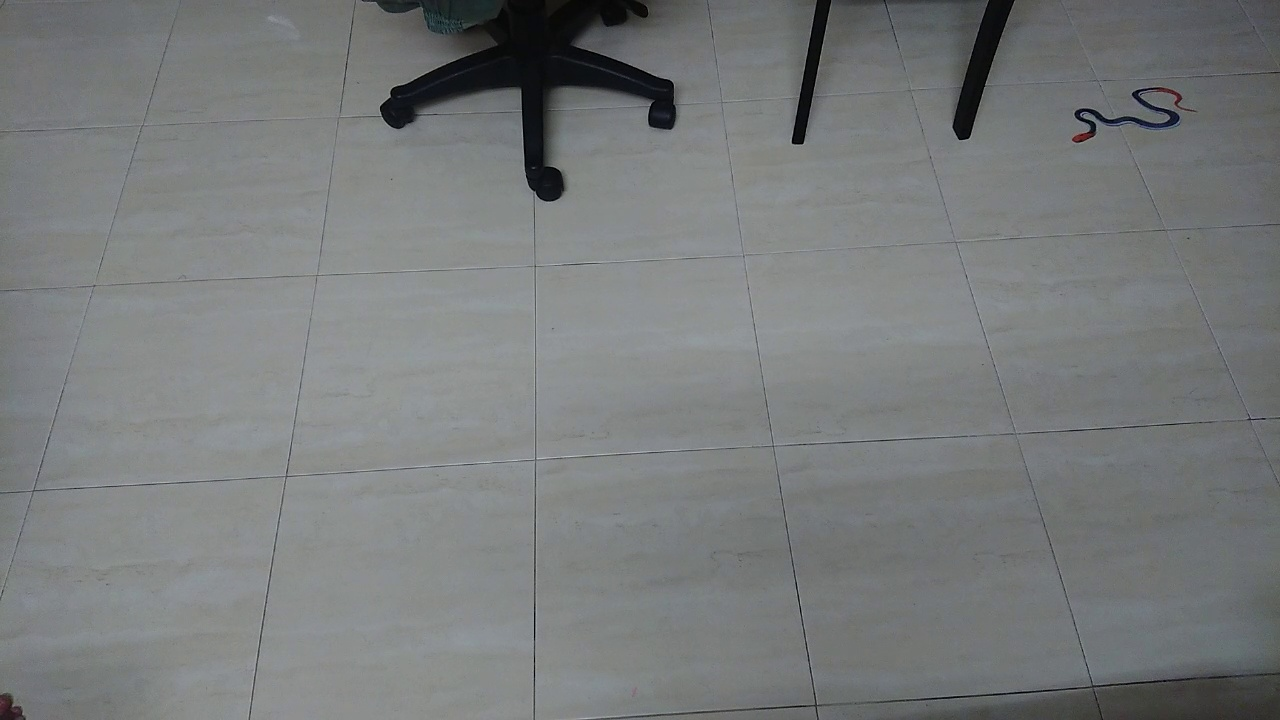snake: (1052, 72, 1207, 149)
